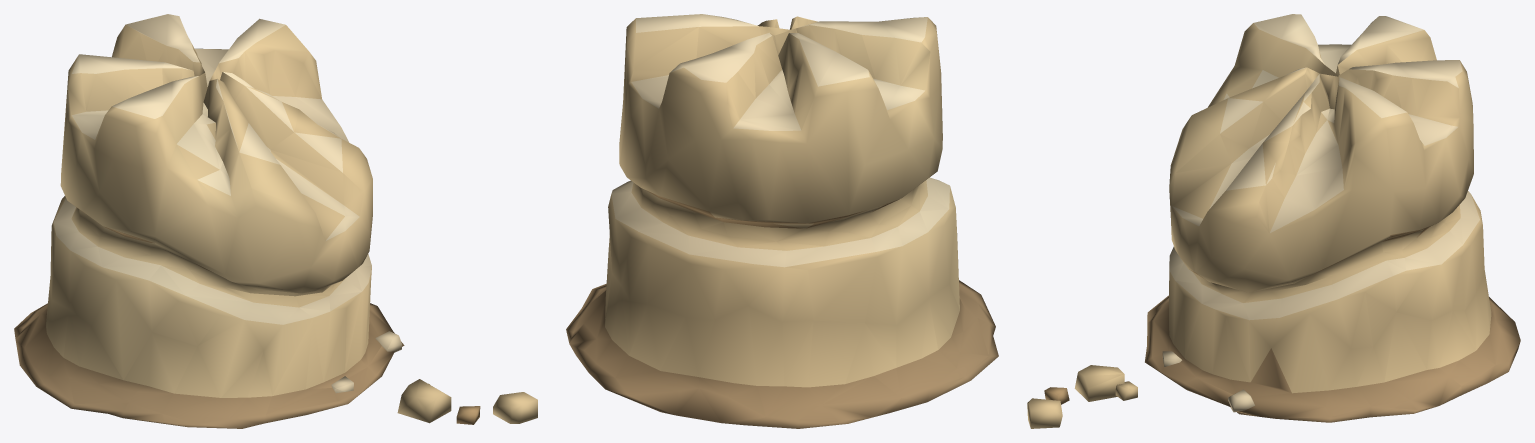
The model's file is shore_sand_pie_d_lod1.glb.
3 views of the same model, side by side, from view 1: azimuth 30°, elevation 25°; view 2: azimuth 150°, elevation 25°; view 3: azimuth 270°, elevation 25° (orthographic). The views are drawn at different scales.
Parts seen in each view (by area): view 1: shore_sand_pie_d.001; view 2: shore_sand_pie_d.001; view 3: shore_sand_pie_d.001.
Boxes of the visible parts, box(x1,y1,x2,y2) form: shore_sand_pie_d.001: box(14, 14, 537, 428); shore_sand_pie_d.001: box(566, 14, 998, 428); shore_sand_pie_d.001: box(1027, 14, 1520, 428).
Size of the model in its own units: 4.43 by 3.46 by 5.53.
